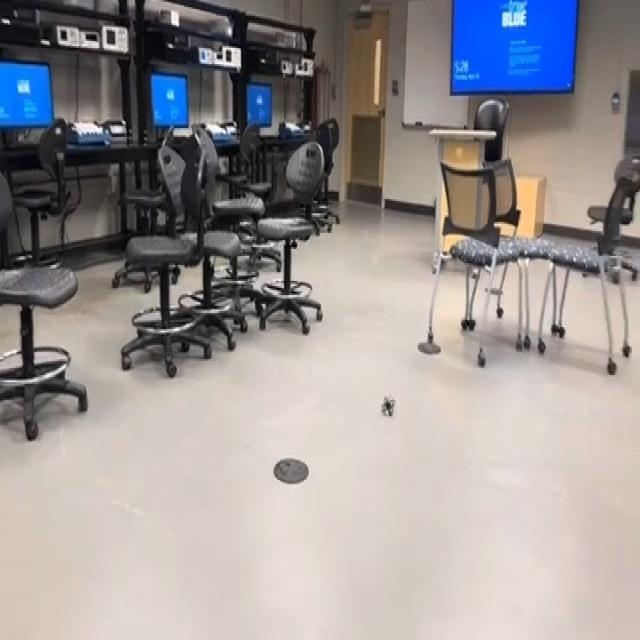drone: (373, 380, 404, 430)
